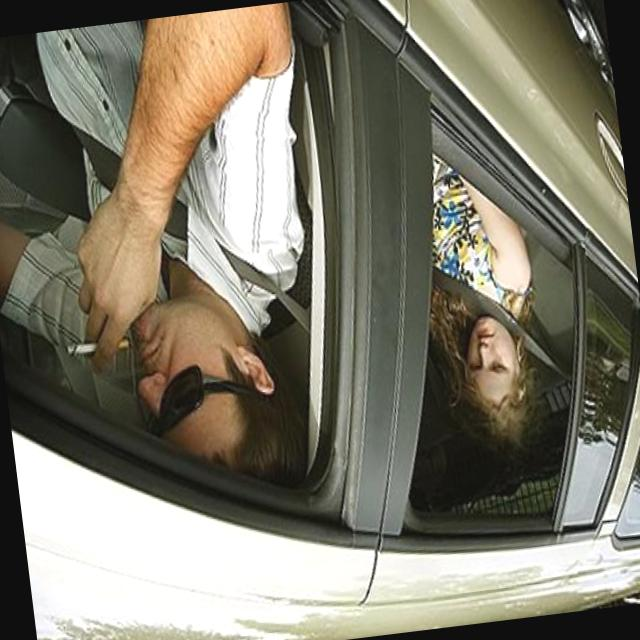smoke: (57, 312, 139, 386)
